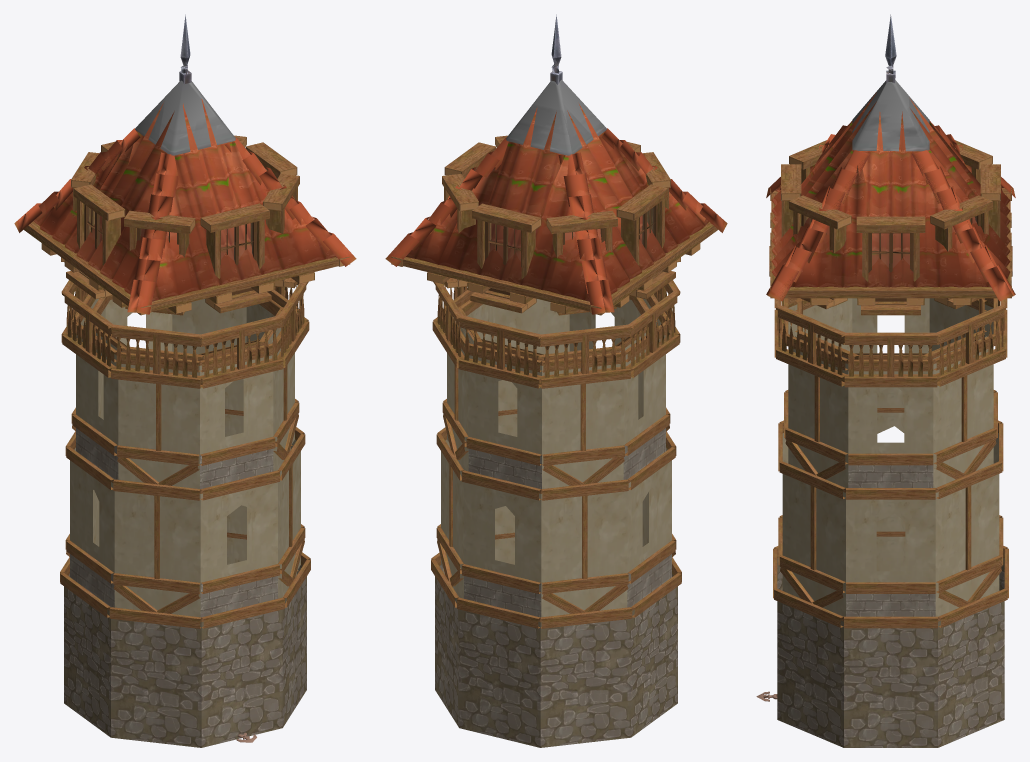
The model's file is Lighthouse.medium.gltf.
3 renders of one model, left to right at view 1: azimuth 30°, elevation 25°; view 2: azimuth 150°, elevation 25°; view 3: azimuth 270°, elevation 25°, orthographic.
Parts seen in each view (by area): view 1: Roof_Tower_RoundTiles, Wall_UnevenBrick_Straight (×5), Wall_Plaster_Straight (×7), Wall_Plaster_Window_Thin_Round (×6), Balcony_Simple_Straight (×4), Window_Wide_Flat1 (×6); view 2: Roof_Tower_RoundTiles, Wall_UnevenBrick_Straight (×5), Wall_Plaster_Straight (×7), Wall_Plaster_Window_Thin_Round (×6), Balcony_Simple_Straight (×4), Window_Wide_Flat1 (×6); view 3: Wall_Plaster_Straight (×6), Roof_Tower_RoundTiles, Wall_UnevenBrick_Straight (×4), Wall_Plaster_Window_Thin_Round (×4), Window_Wide_Flat1 (×7), Balcony_Simple_Straight (×3).
Boxes of the visible parts, x1,y1,x2,y2 form: Roof_Tower_RoundTiles: (14, 14, 356, 315); Wall_UnevenBrick_Straight (×5): (60, 532, 310, 747); Wall_Plaster_Straight (×7): (71, 294, 305, 617); Wall_Plaster_Window_Thin_Round (×6): (66, 290, 298, 617); Balcony_Simple_Straight (×4): (62, 281, 309, 388); Window_Wide_Flat1 (×6): (61, 142, 299, 315); Roof_Tower_RoundTiles: (385, 14, 727, 315); Wall_UnevenBrick_Straight (×5): (431, 532, 681, 747); Wall_Plaster_Straight (×7): (436, 294, 670, 617); Wall_Plaster_Window_Thin_Round (×6): (443, 290, 675, 617); Balcony_Simple_Straight (×4): (432, 281, 679, 388); Window_Wide_Flat1 (×6): (442, 142, 680, 315); Wall_Plaster_Straight (×6): (779, 298, 1002, 616); Roof_Tower_RoundTiles: (766, 14, 1015, 305); Wall_UnevenBrick_Straight (×4): (774, 531, 1007, 747); Wall_Plaster_Window_Thin_Round (×4): (846, 298, 935, 616); Window_Wide_Flat1 (×7): (769, 140, 1012, 315); Balcony_Simple_Straight (×3): (776, 305, 1005, 387).
Bounding box in the file's own units: 5.6 × 16.3 × 5.59.
9 materials, 8 textured.
